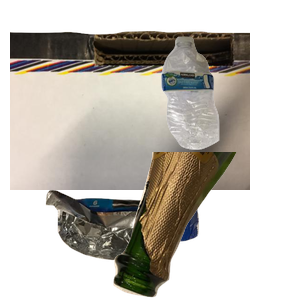cardboard: (10, 29, 250, 209)
glass: (111, 152, 300, 300)
plastic: (159, 34, 300, 176)
trash: (43, 187, 234, 300)
